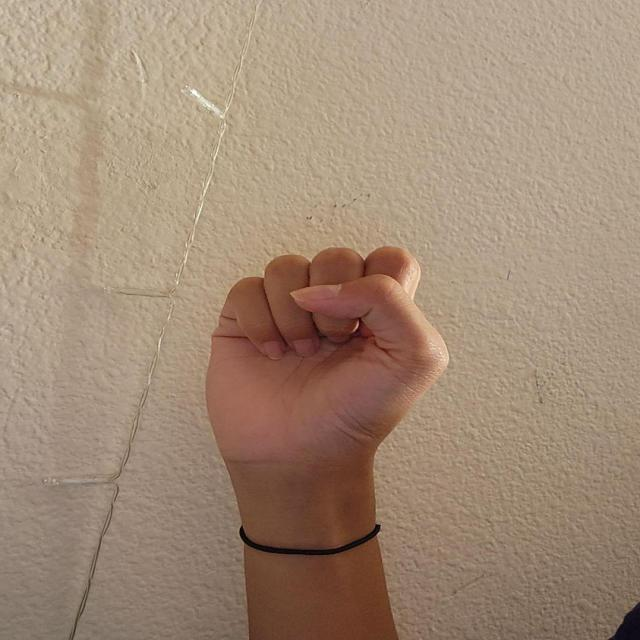S: (203, 237, 452, 474)
